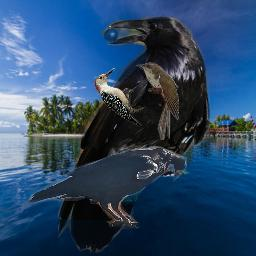Crow: (58, 16, 211, 253), (26, 146, 187, 229)
Cuckoo: (136, 62, 179, 140)
Woodpecker: (94, 68, 145, 127)
